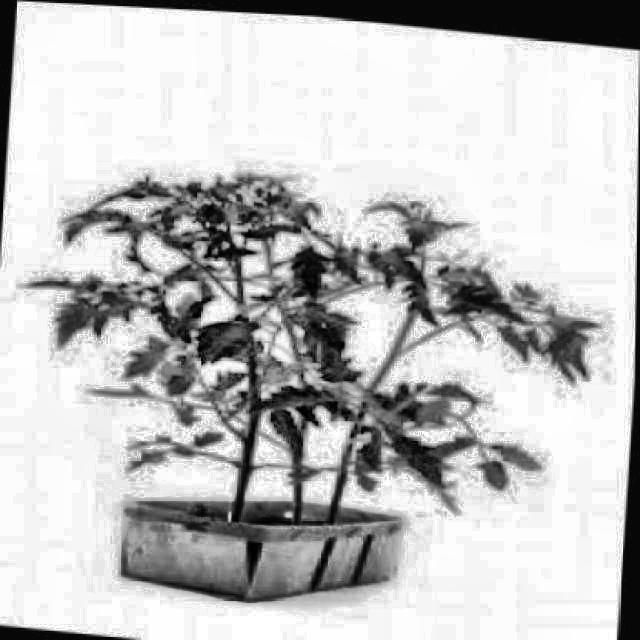plants: (12, 142, 608, 608)
